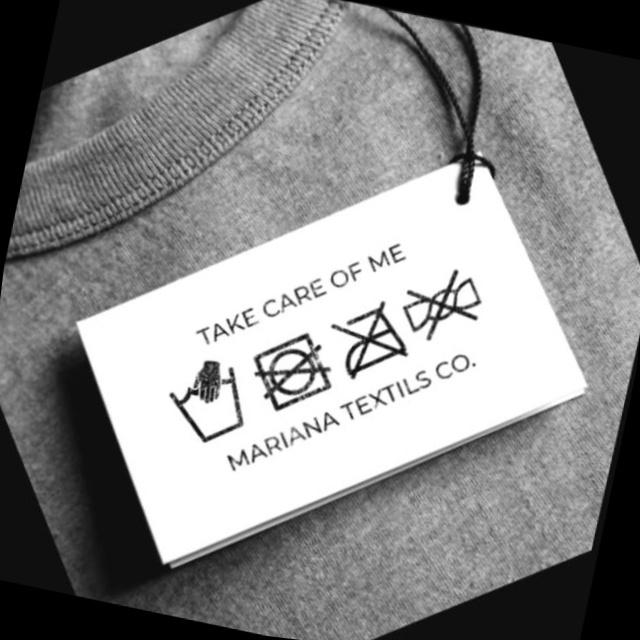DN_iron: (325, 293, 414, 387)
DN_tumble_dry: (242, 322, 337, 416)
DN_wring: (397, 258, 490, 347)
hand_wash: (158, 350, 257, 456)
